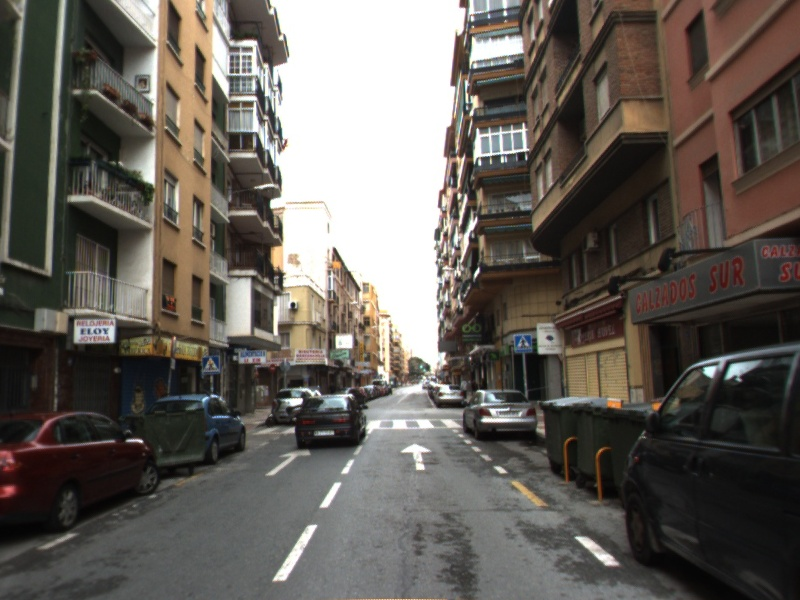STRAIGHT: (263, 446, 313, 478), (398, 441, 435, 472)
